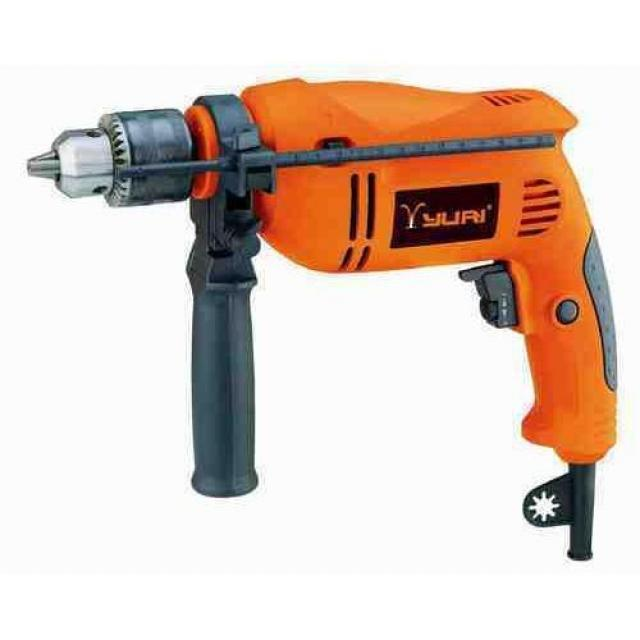drill: (26, 76, 620, 564)
